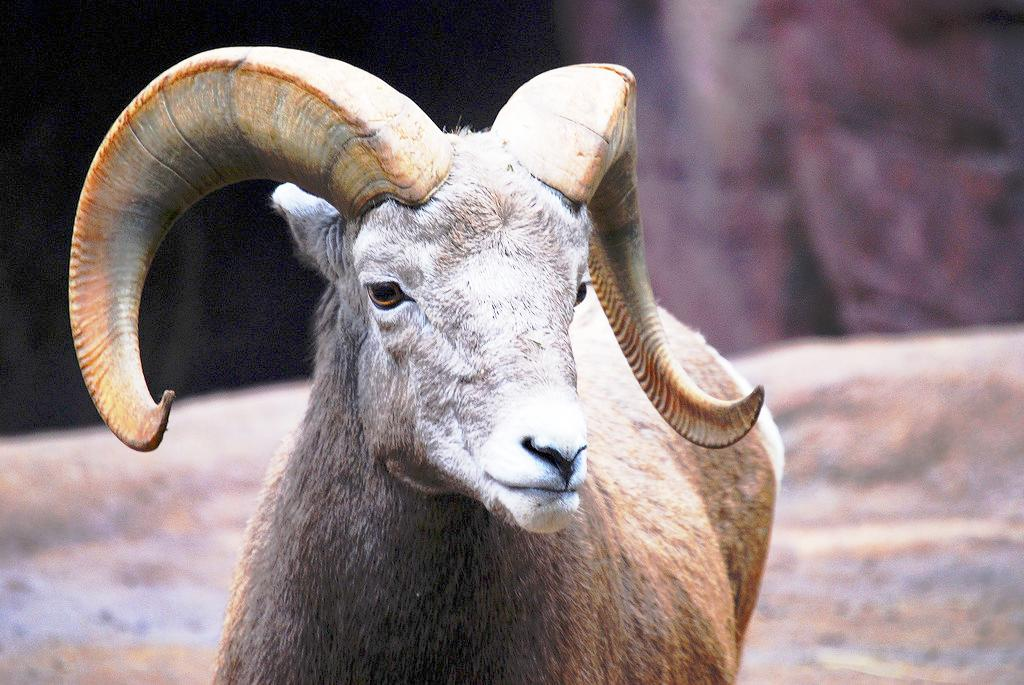Sheep: (64, 46, 782, 684)
